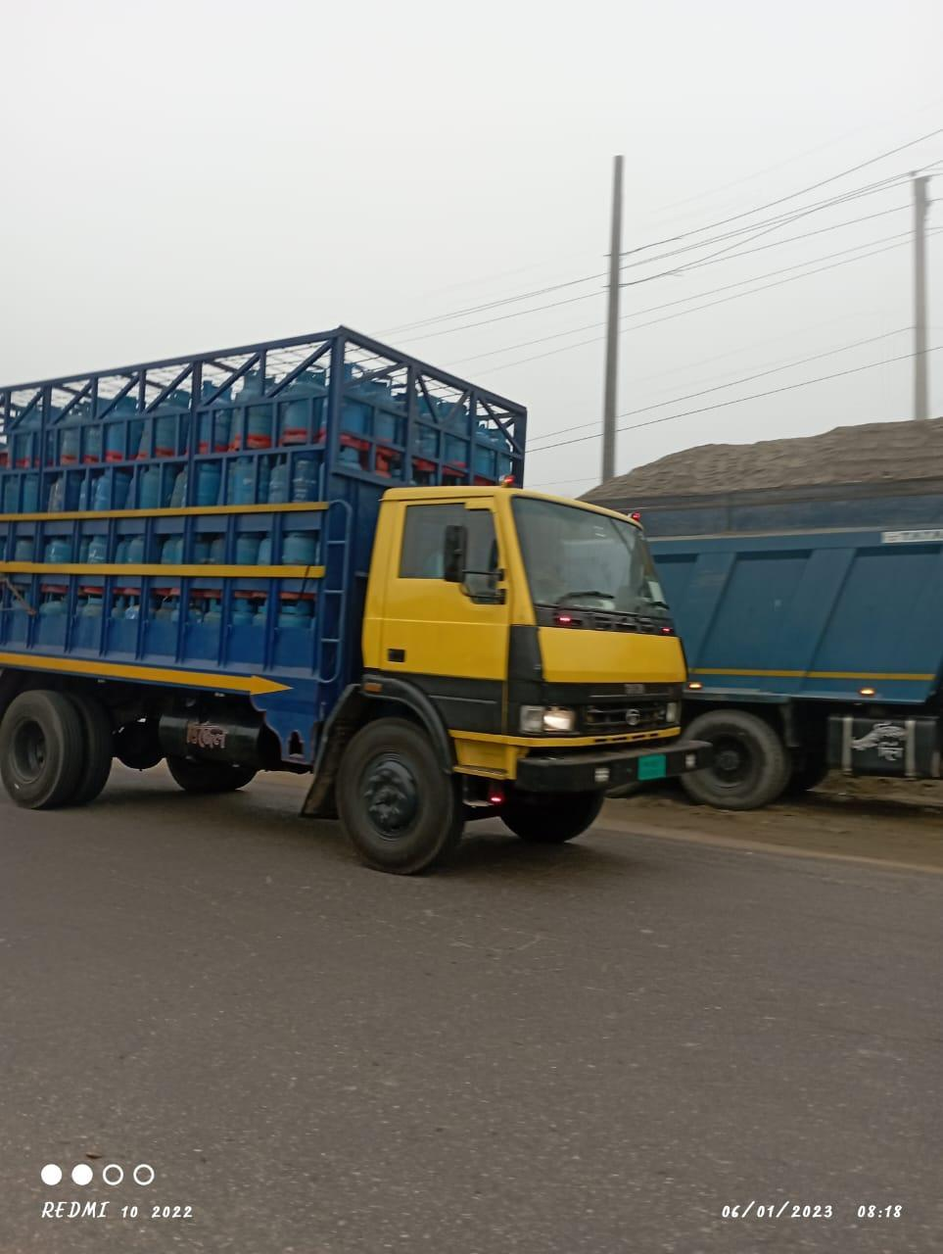Truck: (13, 326, 711, 879), (640, 407, 943, 816)
